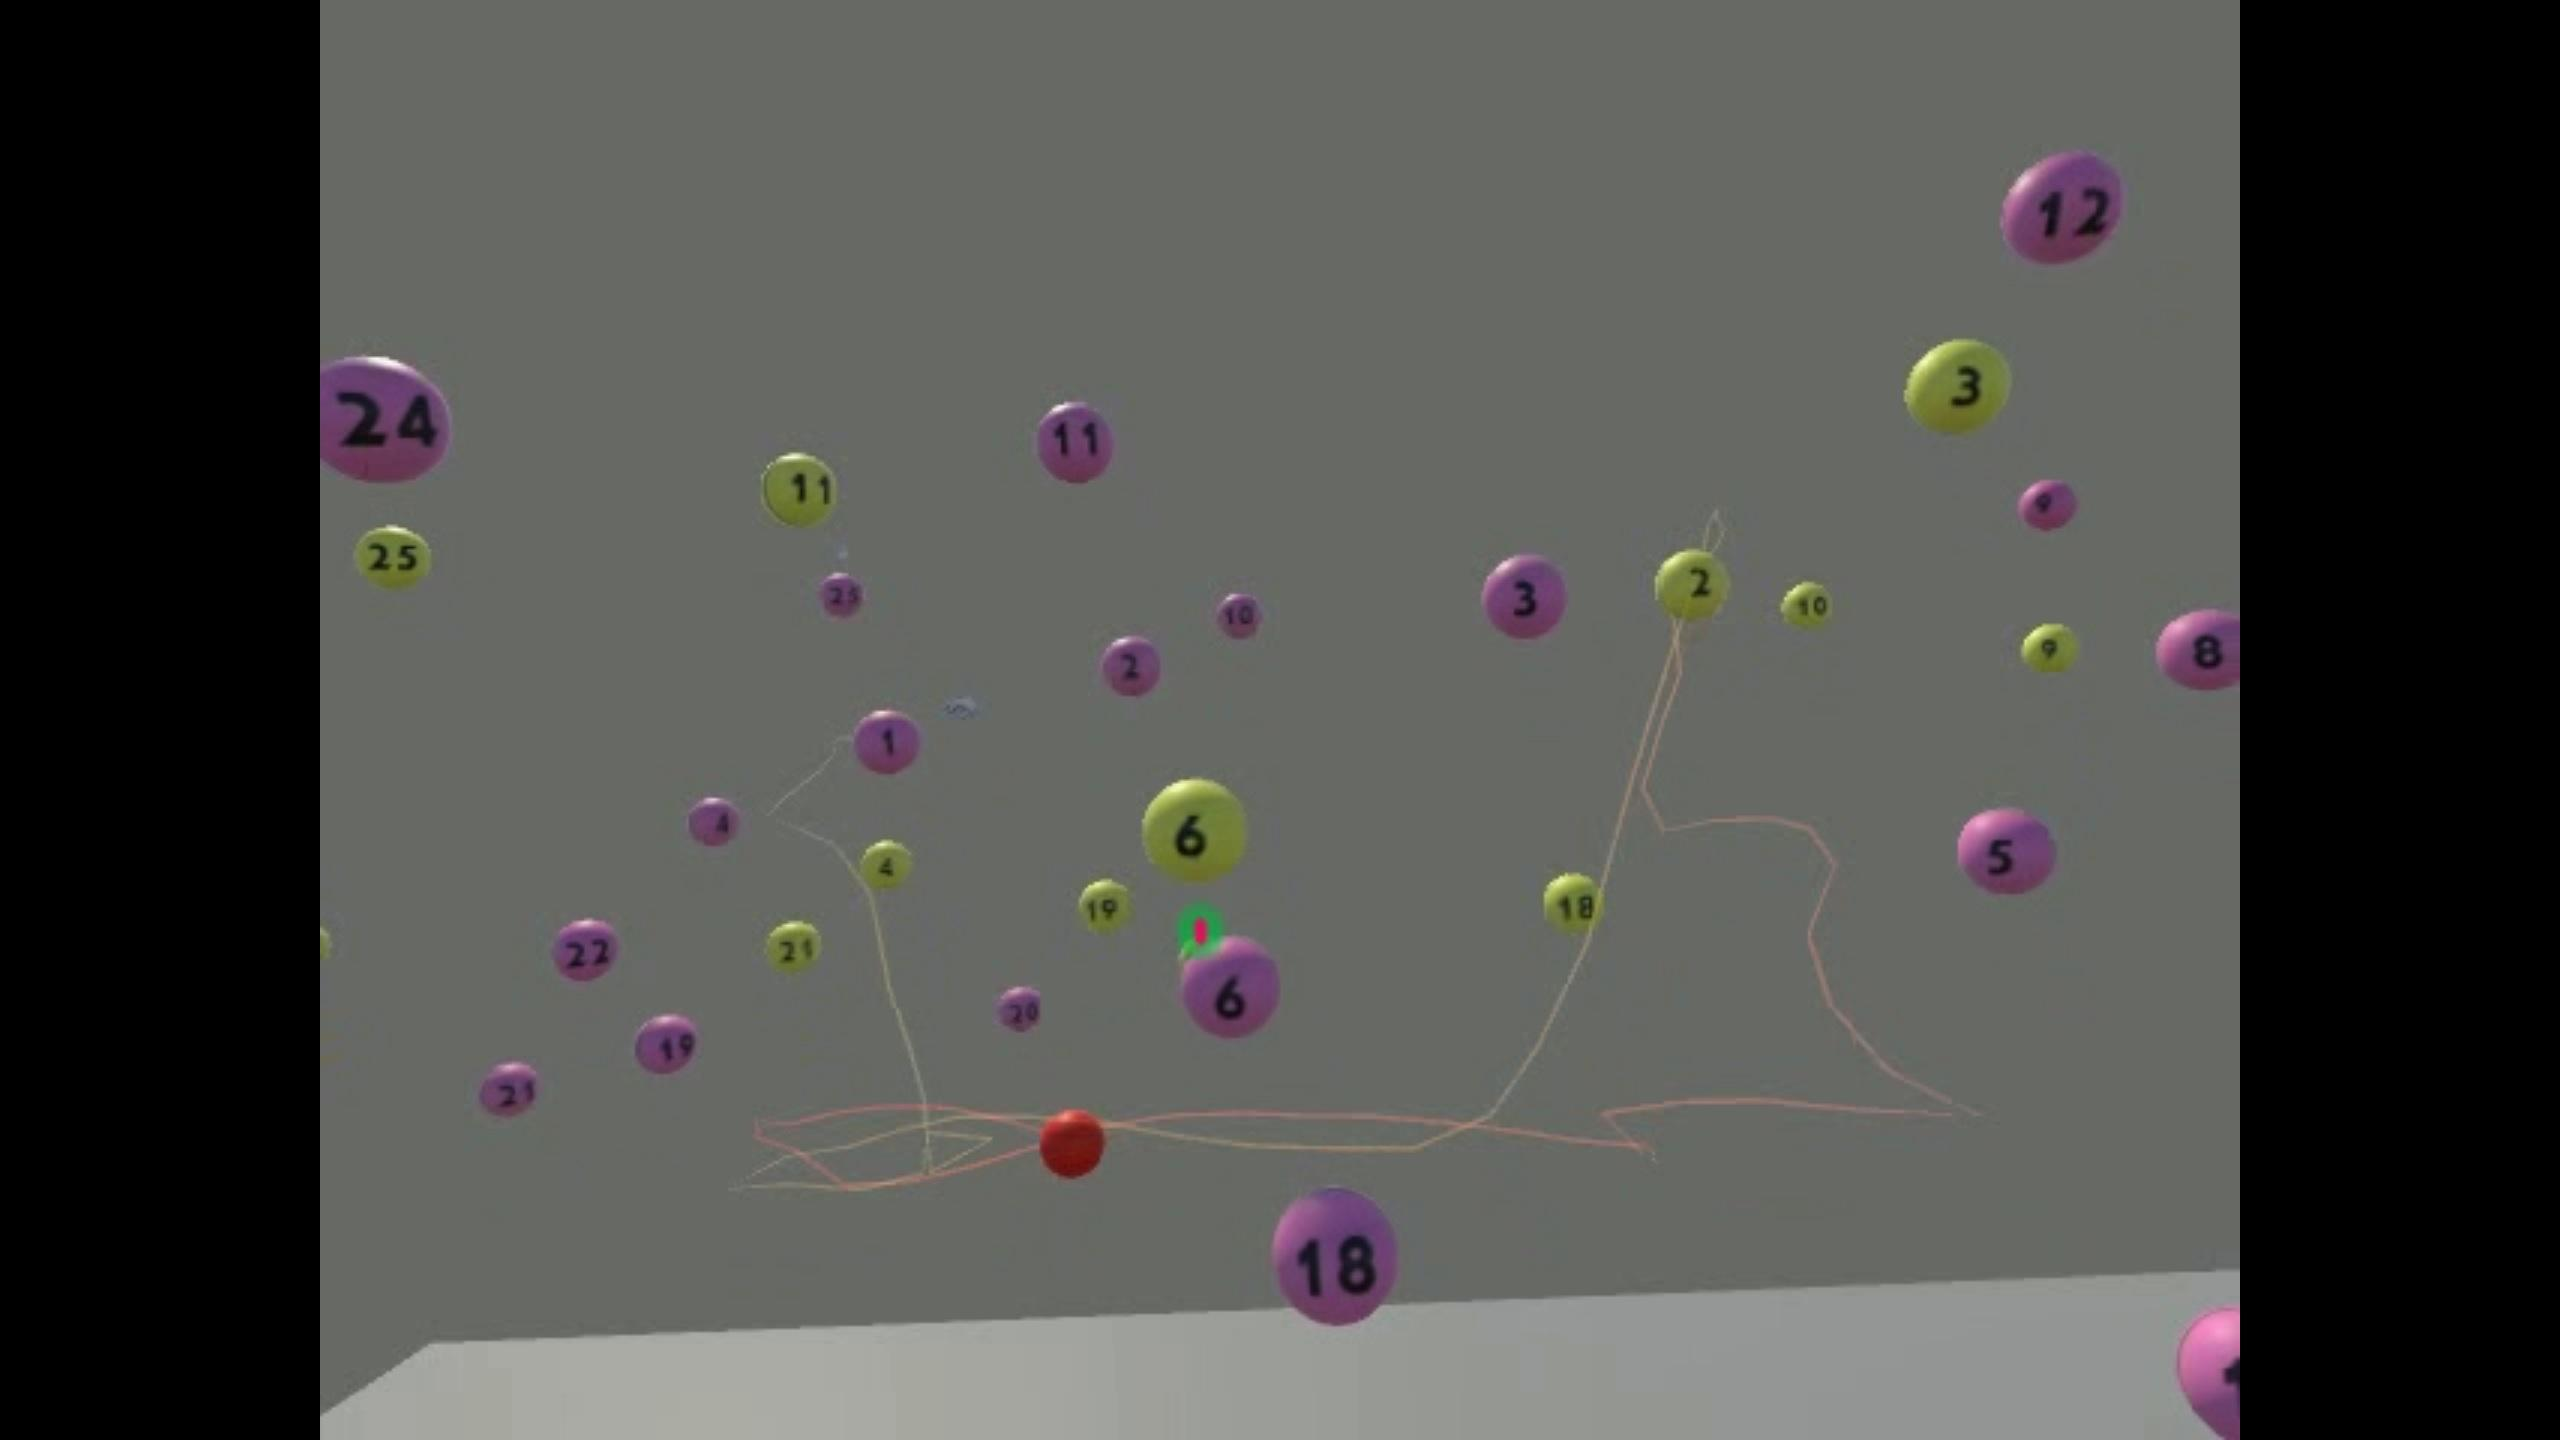ball_01_pink: (853, 710, 923, 775)
ball_02_pink: (1102, 635, 1159, 698)
ball_02_yellow: (1655, 550, 1730, 619)
ball_03_pink: (1486, 556, 1568, 636)
ball_03_yellow: (1904, 339, 2011, 436)
ball_04_pink: (687, 796, 740, 846)
ball_04_yellow: (860, 842, 914, 888)
ball_05_pink: (1959, 809, 2055, 897)
ball_06_pink: (1182, 937, 1280, 1036)
ball_06_yellow: (1139, 777, 1250, 884)
ball_08_pink: (2156, 610, 2242, 689)
ball_09_pink: (2017, 480, 2076, 529)
ball_09_yellow: (2022, 624, 2080, 673)
ball_10_pink: (1217, 593, 1259, 636)
ball_10_yellow: (1781, 582, 1834, 629)
ball_11_pink: (1037, 403, 1111, 484)
ball_11_yellow: (761, 454, 837, 526)
ball_12_pink: (2001, 151, 2122, 265)
ball_18_pink: (1273, 1189, 1398, 1327)
ball_18_yellow: (1545, 872, 1602, 932)
ball_19_pink: (635, 1016, 696, 1074)
ball_19_yellow: (1078, 879, 1132, 935)
ball_20_pink: (1000, 986, 1041, 1030)
ball_21_pink: (482, 1062, 542, 1116)
ball_21_yellow: (765, 921, 821, 972)
ball_22_pink: (552, 920, 619, 979)
ball_24_pink: (324, 357, 450, 484)
ball_25_pink: (818, 573, 862, 617)
ball_25_yellow: (353, 526, 431, 587)
ball_unknown: (2178, 1305, 2238, 1440), (322, 918, 332, 972)
user_cursor: (1039, 1109, 1104, 1178)
